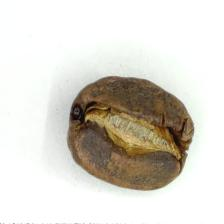NG: (72, 84, 179, 179)
